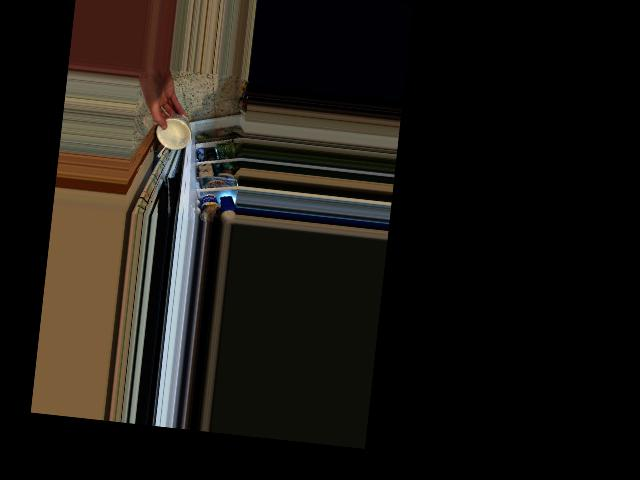cotage: (158, 113, 192, 150)
